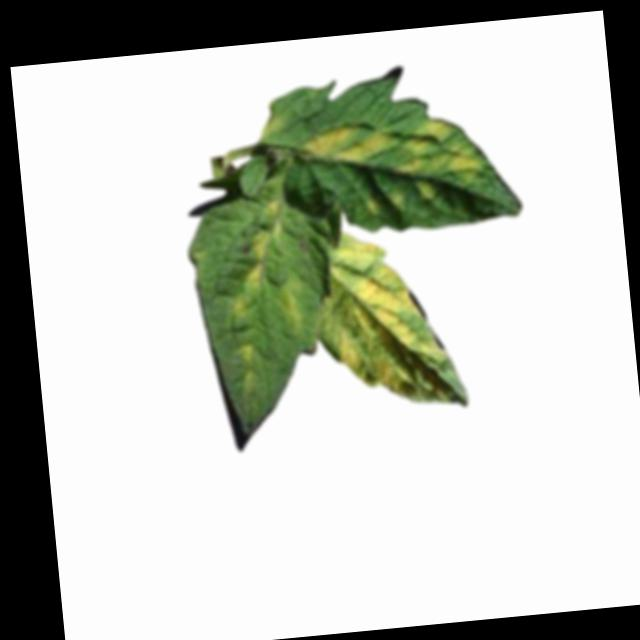Leaf_Mold: (313, 222, 455, 415), (394, 114, 482, 190), (301, 114, 393, 170), (240, 234, 274, 294), (278, 276, 310, 338), (261, 197, 288, 238), (257, 113, 285, 139), (230, 294, 251, 324), (359, 195, 382, 218), (236, 343, 256, 365)
